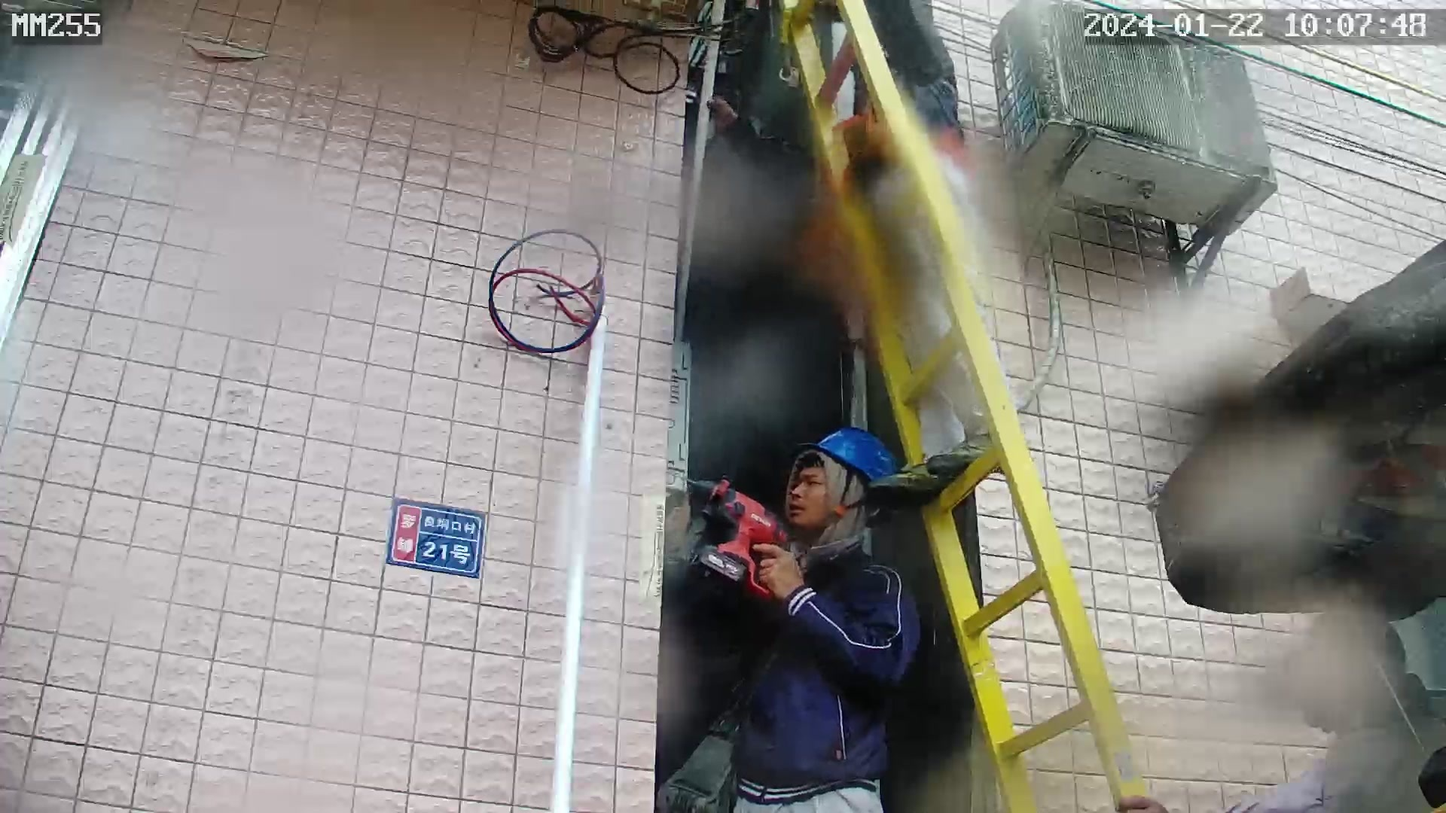电锤/冲击钻: (686, 472, 791, 601)
